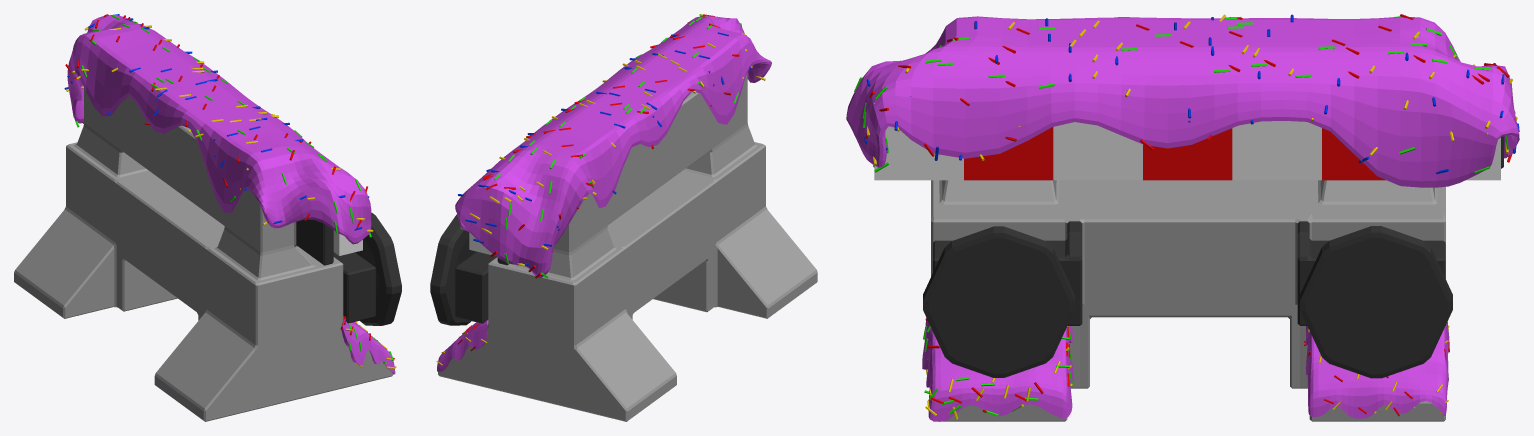
File: bariyer_candy_revize.fbx
3 views of the same model, side by side, from view 1: azimuth 30°, elevation 25°; view 2: azimuth 150°, elevation 25°; view 3: azimuth 270°, elevation 25° (orthographic). The views are drawn at different scales.
Visible parts, largest first — view 1: Cube, Plane, Cube.008, Cube.007, Cube.005, Cylinder.297, Cube.004, Cube.009, Cube.003; view 2: Cube, Plane, Cube.008, Cube.007, Cube.005, Cylinder.297, Cube.010; view 3: Plane, Cube.005, Cube.007, Cube.003, Cube, Cube.009, Cube.010, Cube.008, Cylinder.297, Cylinder.379.
Boxes of the visible parts, left/top/right/bottom form: Cube: left=14, top=142, right=392, bottom=421; Plane: left=67, top=15, right=371, bottom=244; Cube.008: left=74, top=88, right=315, bottom=280; Cube.007: left=121, top=176, right=224, bottom=311; Cube.005: left=333, top=212, right=401, bottom=325; Cylinder.297: left=64, top=14, right=373, bottom=237; Cube.004: left=296, top=219, right=333, bottom=265; Cube.009: left=341, top=319, right=395, bottom=374; Cube.003: left=333, top=193, right=362, bottom=255; Cube: left=438, top=142, right=817, bottom=421; Plane: left=455, top=16, right=771, bottom=277; Cube.008: left=516, top=73, right=757, bottom=280; Cube.007: left=607, top=177, right=709, bottom=312; Cube.005: left=430, top=214, right=496, bottom=325; Cylinder.297: left=458, top=14, right=765, bottom=278; Cube.010: left=437, top=319, right=488, bottom=371; Plane: left=846, top=16, right=1519, bottom=187; Cube.005: left=923, top=221, right=1452, bottom=378; Cube.007: left=1084, top=180, right=1295, bottom=317; Cube.003: left=874, top=103, right=1500, bottom=180; Cube: left=931, top=180, right=1445, bottom=421; Cube.009: left=922, top=318, right=1073, bottom=421; Cube.010: left=1305, top=322, right=1449, bottom=418; Cube.008: left=939, top=36, right=1437, bottom=204; Cylinder.297: left=854, top=14, right=1519, bottom=173; Cylinder.379: left=923, top=318, right=1072, bottom=419.
Bounding box in the file's own units: 317 × 376 × 705.
